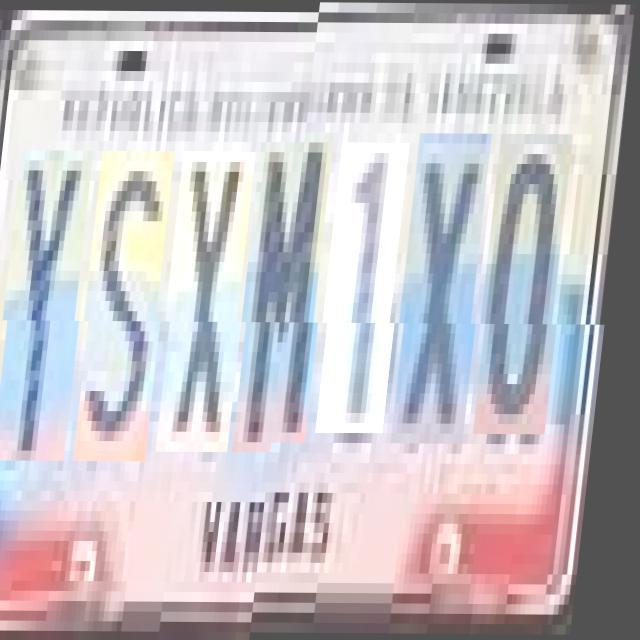1: (324, 152, 416, 442)
M: (242, 142, 341, 452)
O: (482, 143, 580, 443)
S: (84, 151, 183, 461)
X: (399, 143, 498, 453), (166, 152, 264, 452)
Y: (3, 150, 102, 460)
